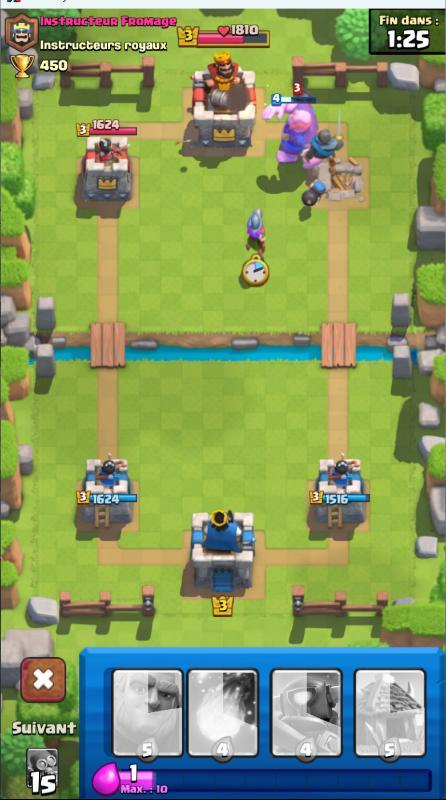player_giant: (272, 95, 320, 169)
player_knight: (303, 113, 350, 166)
player_musketeer: (241, 202, 270, 259)
